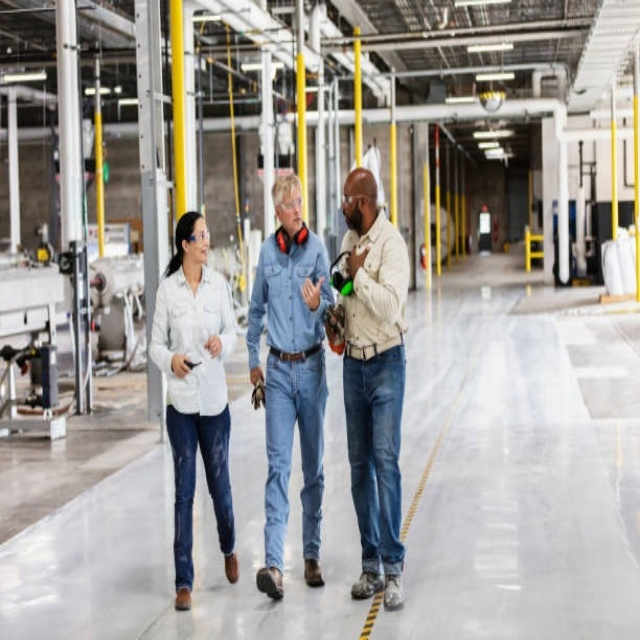Gafas: (342, 191, 370, 209), (278, 196, 304, 212), (185, 229, 211, 242)
Sin_guantes: (302, 274, 325, 310), (345, 243, 368, 273), (205, 334, 223, 359), (172, 353, 190, 376)
Sin_mascara: (196, 242, 209, 260), (288, 213, 302, 229), (340, 210, 353, 226)
